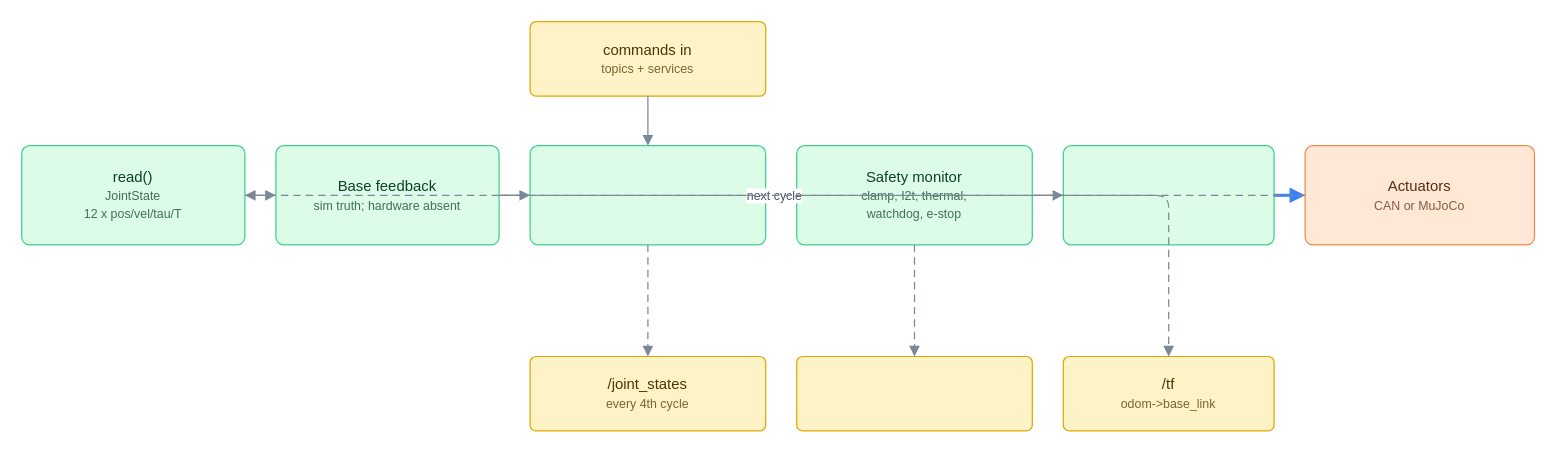
Image size: 1556x453. Some labels were removed from this diagram. Each missing label, with the box of its shape:
/robodog/robot_state every 8th cycle: (795, 355, 1032, 431)
Active controller idle | joint | pose | gait | joint_test: (529, 144, 766, 245)
write() JointCommand: (1062, 144, 1274, 245)
